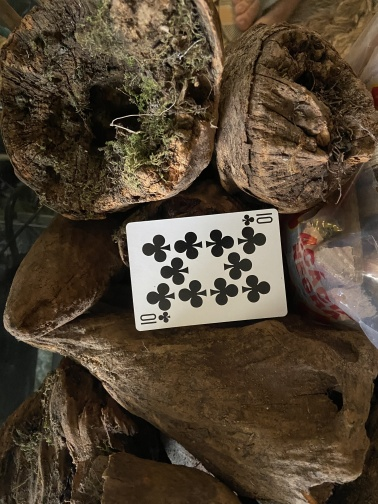ten: (125, 207, 289, 332)
